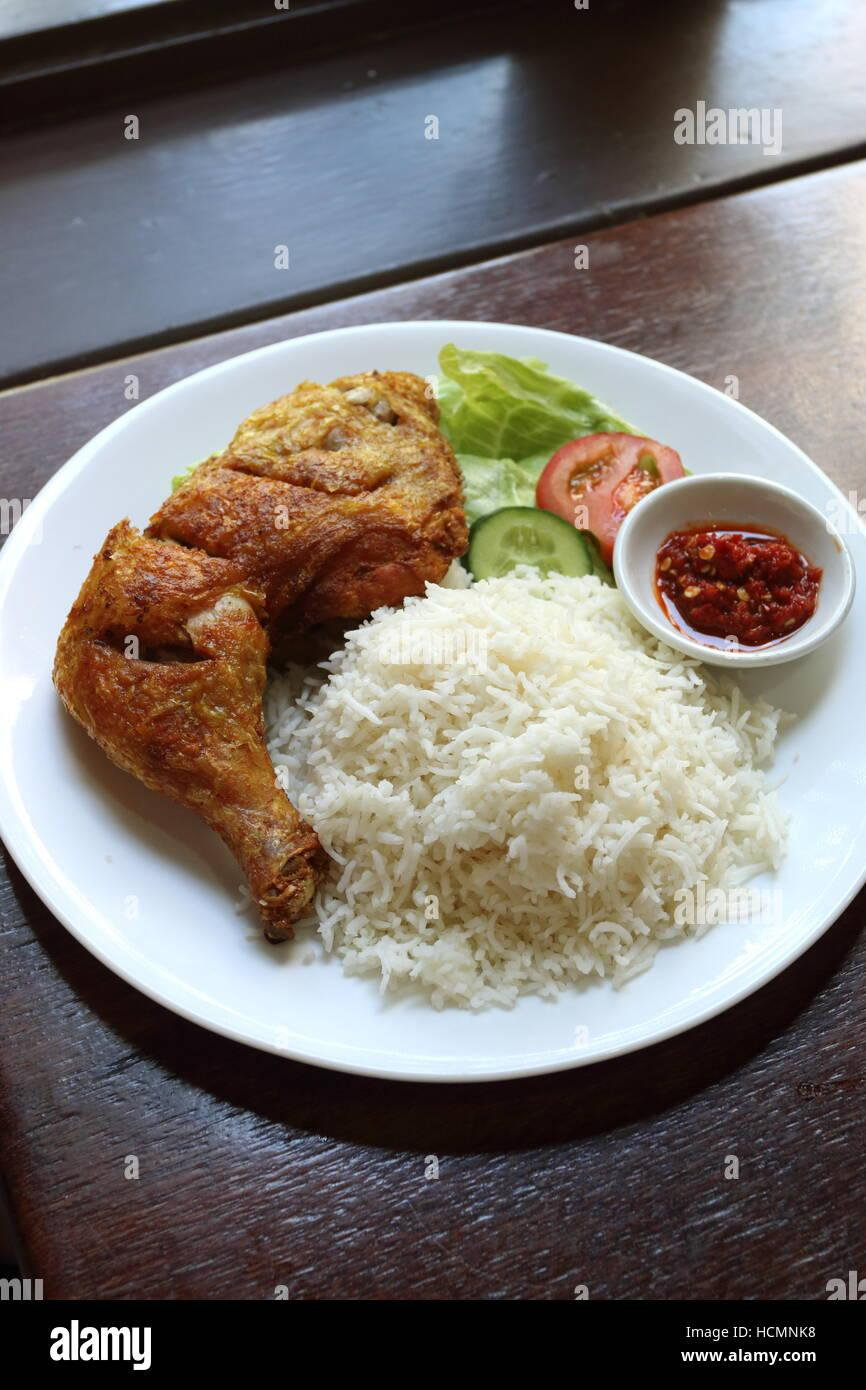buah_sayur_lainnya: (454, 360, 546, 461), (487, 517, 548, 574)
buah_sayur_vitA: (688, 534, 787, 613), (567, 448, 633, 527)
daging: (252, 415, 440, 568)
makanan_berpati: (374, 632, 652, 932)
